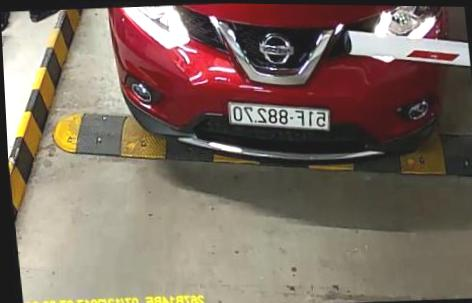License_Plate: (221, 95, 334, 137)
